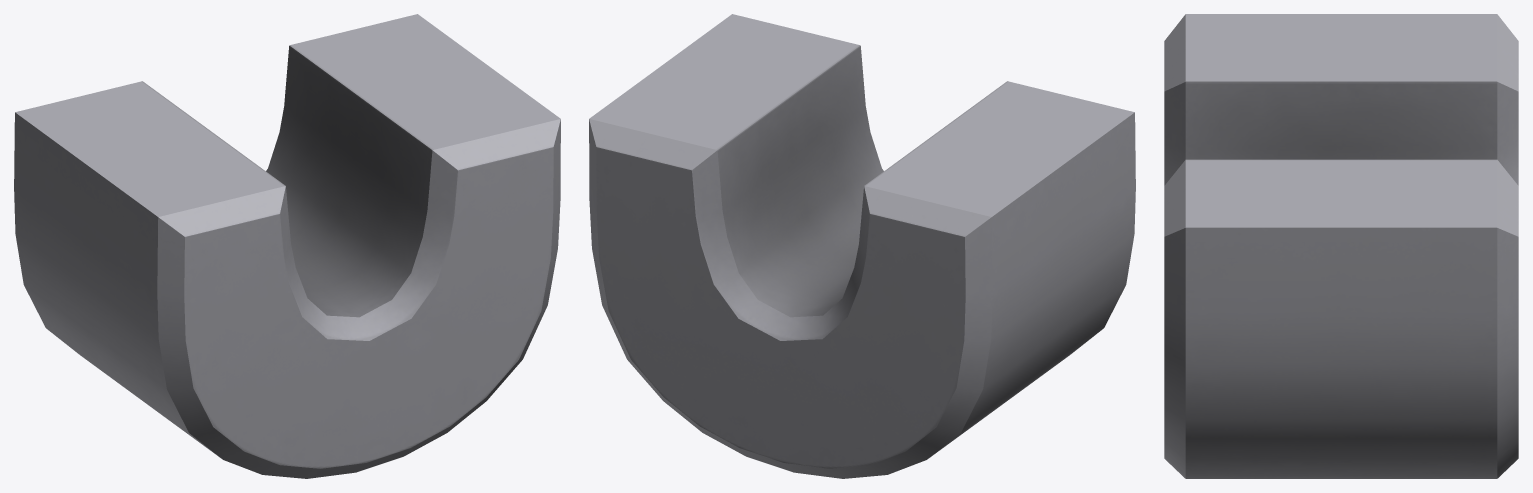
File: Breve.FBX
3 renders of one model, left to right at view 1: azimuth 30°, elevation 25°; view 2: azimuth 150°, elevation 25°; view 3: azimuth 270°, elevation 25°, orthographic. The views are drawn at different scales.
Visible parts, largest first — view 1: Breve; view 2: Breve; view 3: Breve.
Boxes of the visible parts, x1=… form: Breve: x1=14, y1=14, x2=560, y2=478; Breve: x1=589, y1=14, x2=1135, y2=478; Breve: x1=1164, y1=14, x2=1518, y2=478.
Size of the model in its own units: 47.18 by 33.93 by 33.
